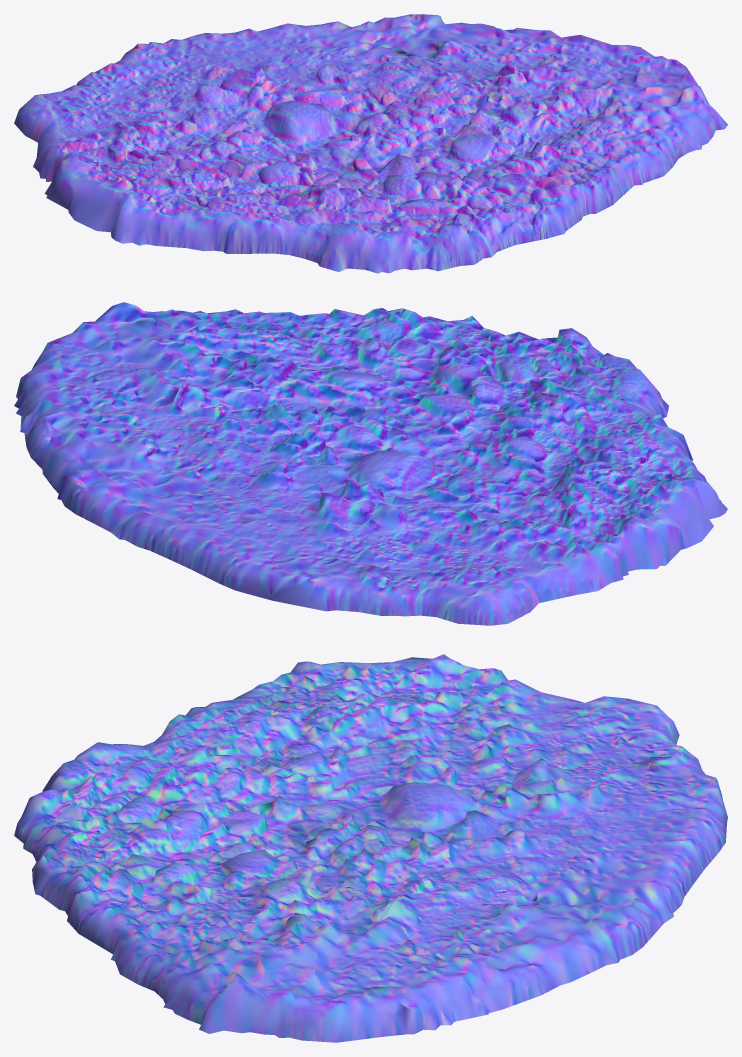
The model's file is TerrainDeco005.fbx.
3 views of the same model, one above another, from view 1: azimuth 30°, elevation 25°; view 2: azimuth 150°, elevation 25°; view 3: azimuth 270°, elevation 25° (orthographic). The views are drawn at different scales.
Parts seen in each view (by area): view 1: TD05_LOD0; view 2: TD05_LOD0; view 3: TD05_LOD0.
Part boxes in pixels (bbox=[...]): TD05_LOD0: bbox=[14, 14, 727, 273]; TD05_LOD0: bbox=[14, 302, 727, 625]; TD05_LOD0: bbox=[14, 654, 727, 1042].
Bounding box in the file's own units: 352 × 24.92 × 294.
